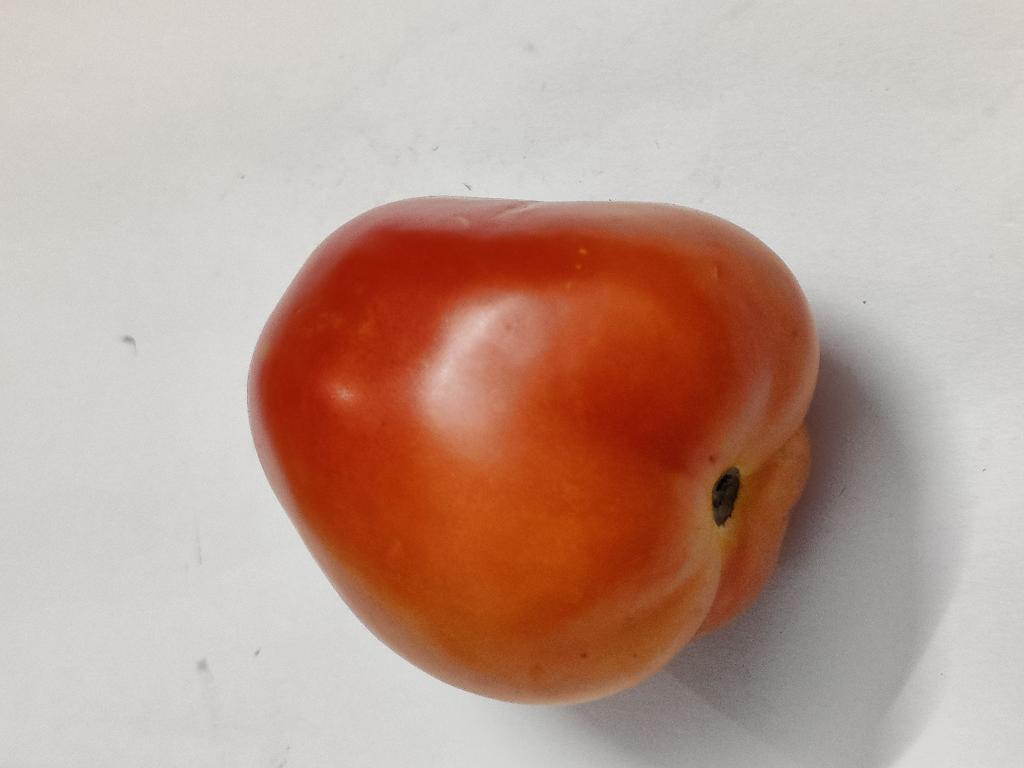tomato: (250, 198, 818, 702)
